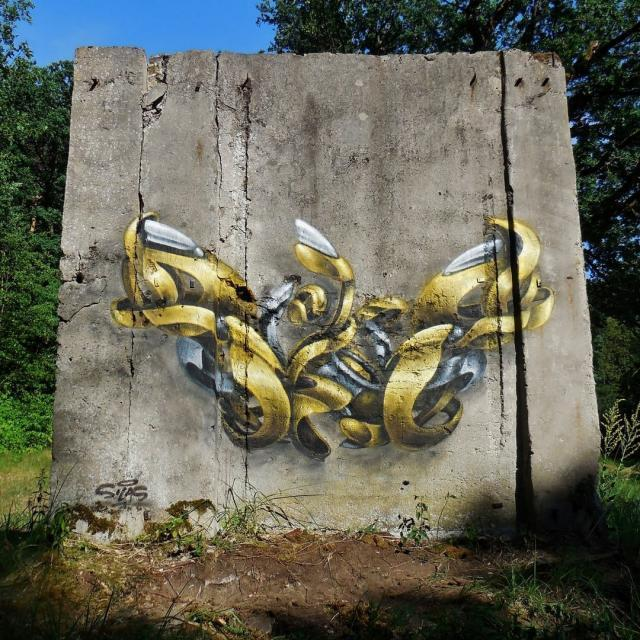nonspitting: (114, 205, 554, 469)
